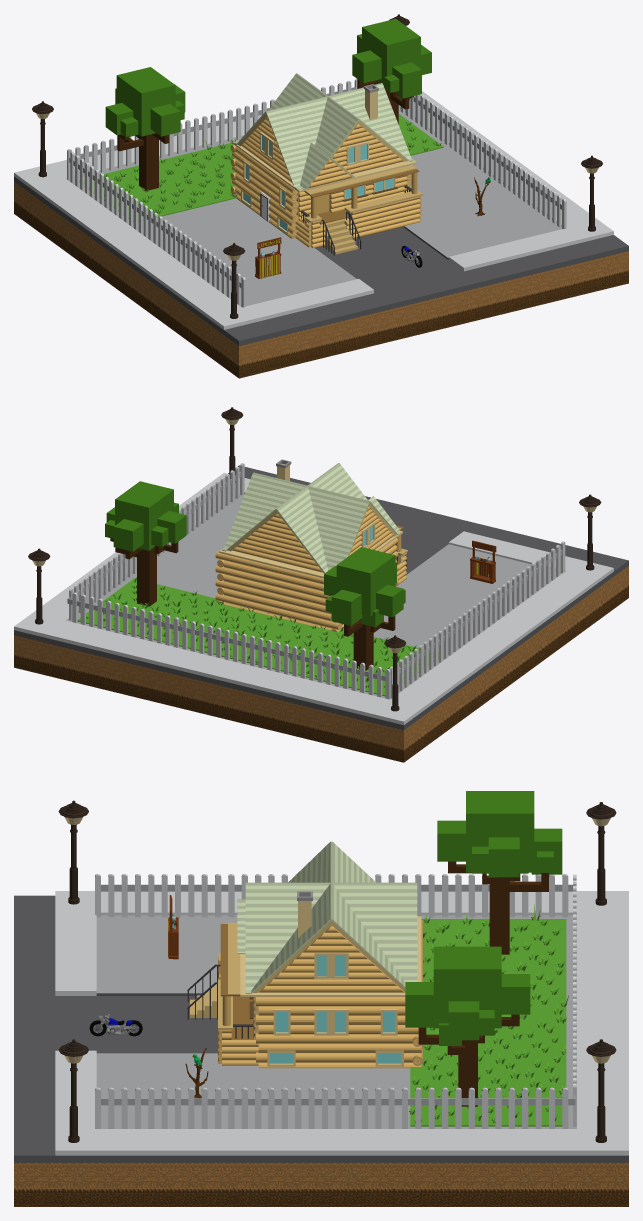
3 renders of one model, top to bottom at view 1: azimuth 30°, elevation 25°; view 2: azimuth 150°, elevation 25°; view 3: azimuth 270°, elevation 25°, orthographic. The views are drawn at different scales.
Parts seen in each view (by area): view 1: Cube.004, Cube.1516, OBJRANDOM_LEMONADE_STAND; view 2: Cube.004, Cube.1516, OBJRANDOM_LEMONADE_STAND; view 3: Cube.004, Cube.1516, VEHICLES_CHOPPER.
Part boxes in pixels (x1=…): Cube.004: x1=14, y1=14, x2=628, y2=378; Cube.1516: x1=230, y1=73, x2=422, y2=255; OBJRANDOM_LEMONADE_STAND: x1=255, y1=237, x2=281, y2=278; Cube.004: x1=14, y1=407, x2=628, y2=762; Cube.1516: x1=215, y1=459, x2=407, y2=632; OBJRANDOM_LEMONADE_STAND: x1=470, y1=540, x2=496, y2=583; Cube.004: x1=14, y1=791, x2=628, y2=1206; Cube.1516: x1=187, y1=841, x2=422, y2=1068; VEHICLES_CHOPPER: x1=89, y1=1014, x2=142, y2=1036.
Size of the model in its own units: 4000 by 1752 by 4000.
Materials: 40 (4 with a texture image).
